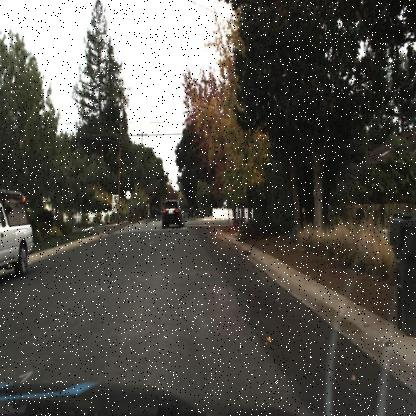car: (0, 193, 34, 278), (160, 197, 187, 230)
